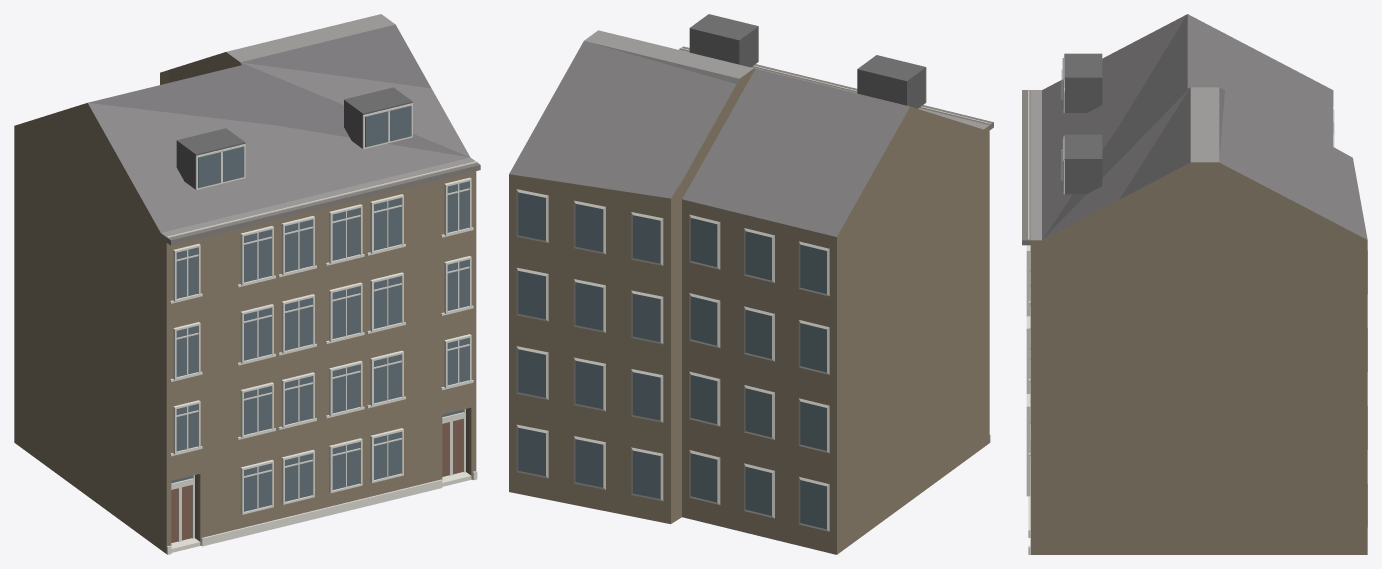
Rendered from chunk-face-leijnsen-2-30-r2.glb.
3 renders of one model, left to right at view 1: azimuth 30°, elevation 25°; view 2: azimuth 150°, elevation 25°; view 3: azimuth 270°, elevation 25°, orthographic.
Visible parts, largest first — view 1: face-leijnsen-2-30-r2; view 2: face-leijnsen-2-30-r2; view 3: face-leijnsen-2-30-r2.
Part boxes in pixels (x1,y1,x2,y2): face-leijnsen-2-30-r2: (14, 14, 480, 554); face-leijnsen-2-30-r2: (509, 14, 993, 554); face-leijnsen-2-30-r2: (1022, 14, 1367, 554).
Bounding box in the file's own units: 12.37 × 15.07 × 12.04.
